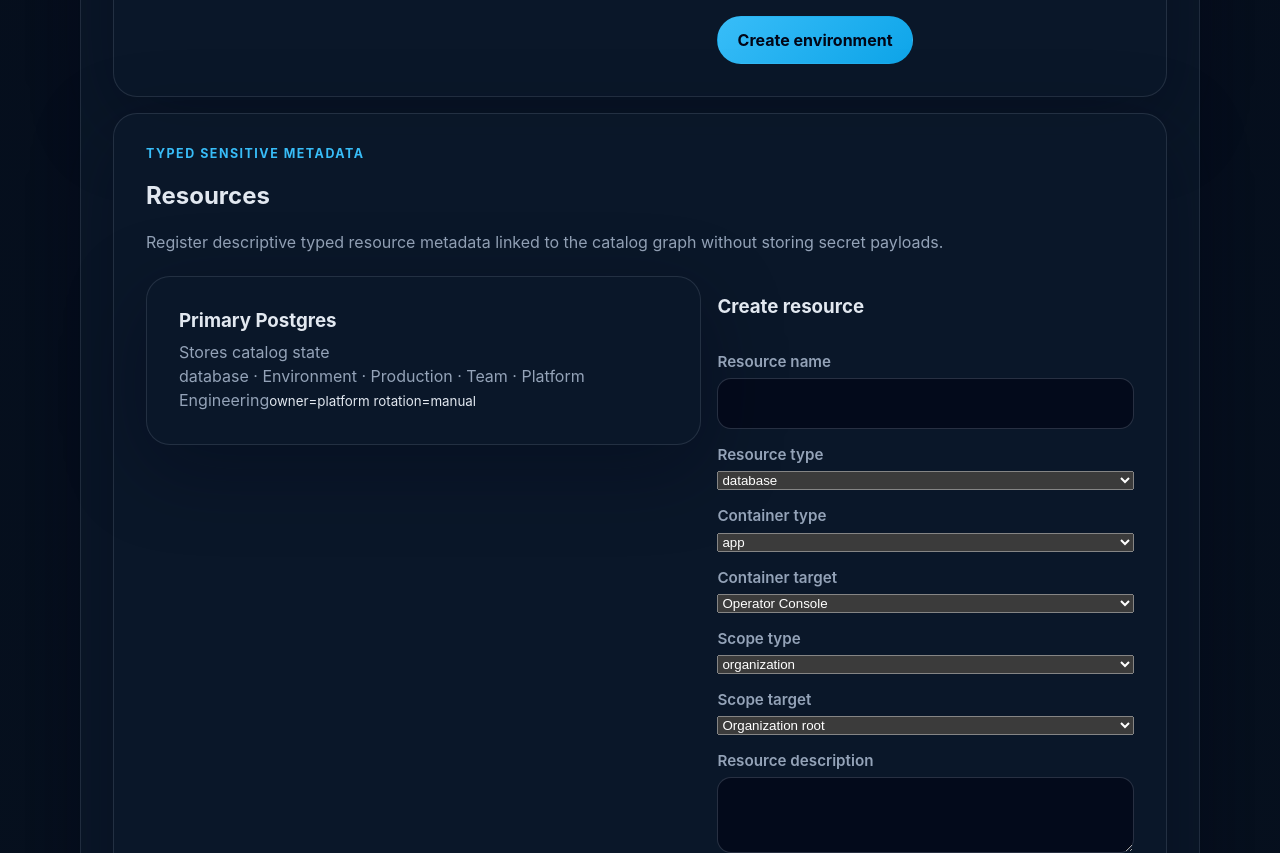
Scenario: catalog workspace › surfaces resource secret-payload failures in-place
The image size is (1280, 853).
(page scrolled)
expect the heading "Primary Postgres" is shown: met, box [179, 309, 337, 332]
Type "Unsafe Resource" into the field labelled "Resource name" at (926, 404), box [717, 378, 1134, 429]
(page scrolled)
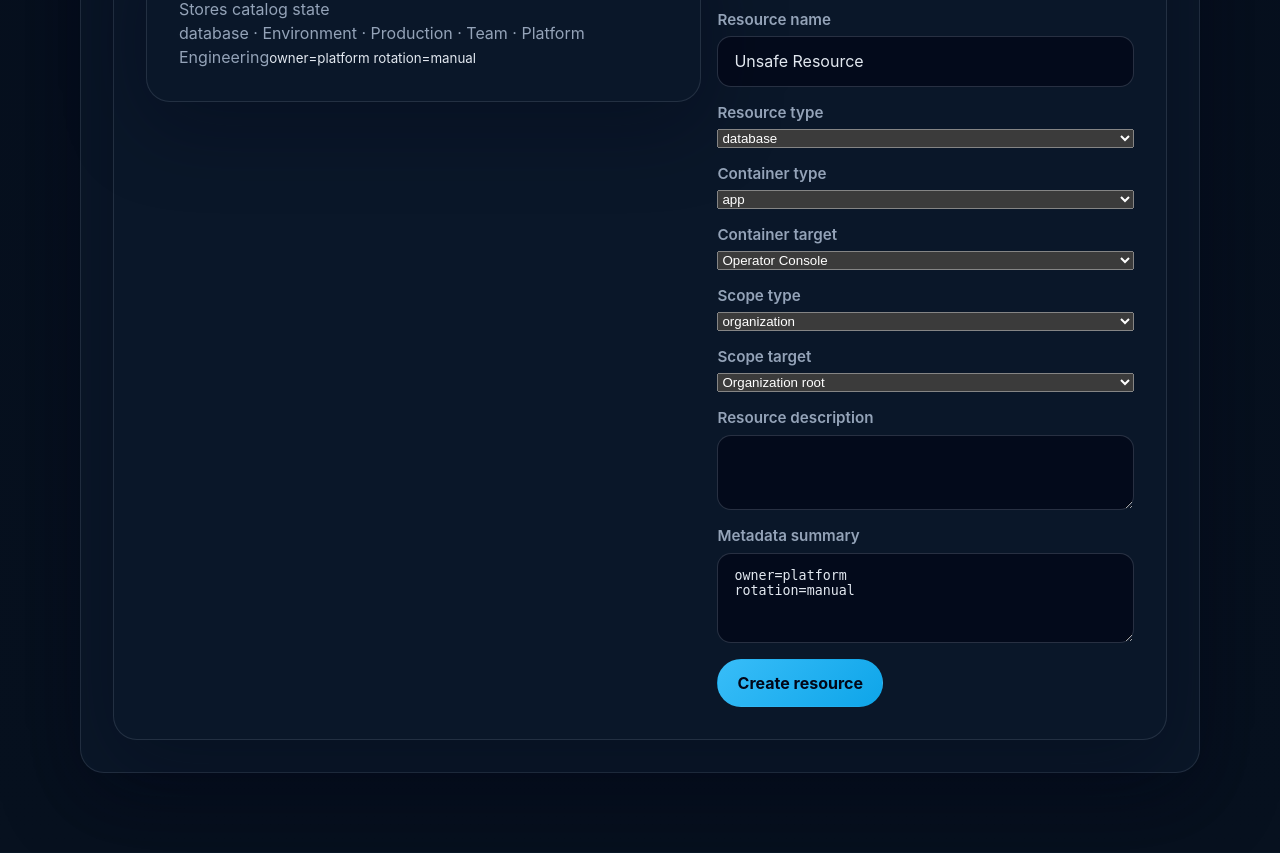
Replace the text in the text box labelled "Metadata summary" with "password=hunter2" at (926, 598), box [717, 553, 1134, 643]
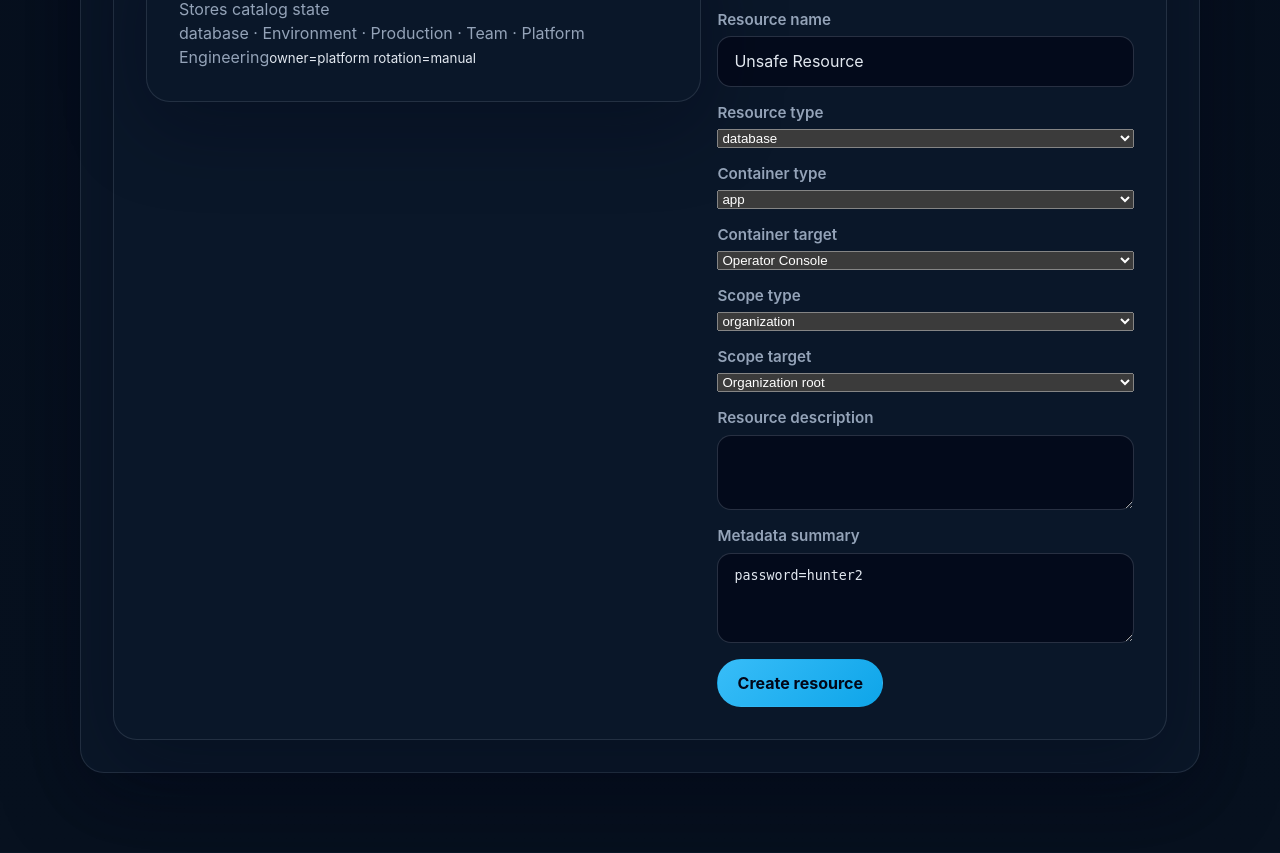
Click the button "Create resource" at (800, 683), box [717, 659, 883, 707]
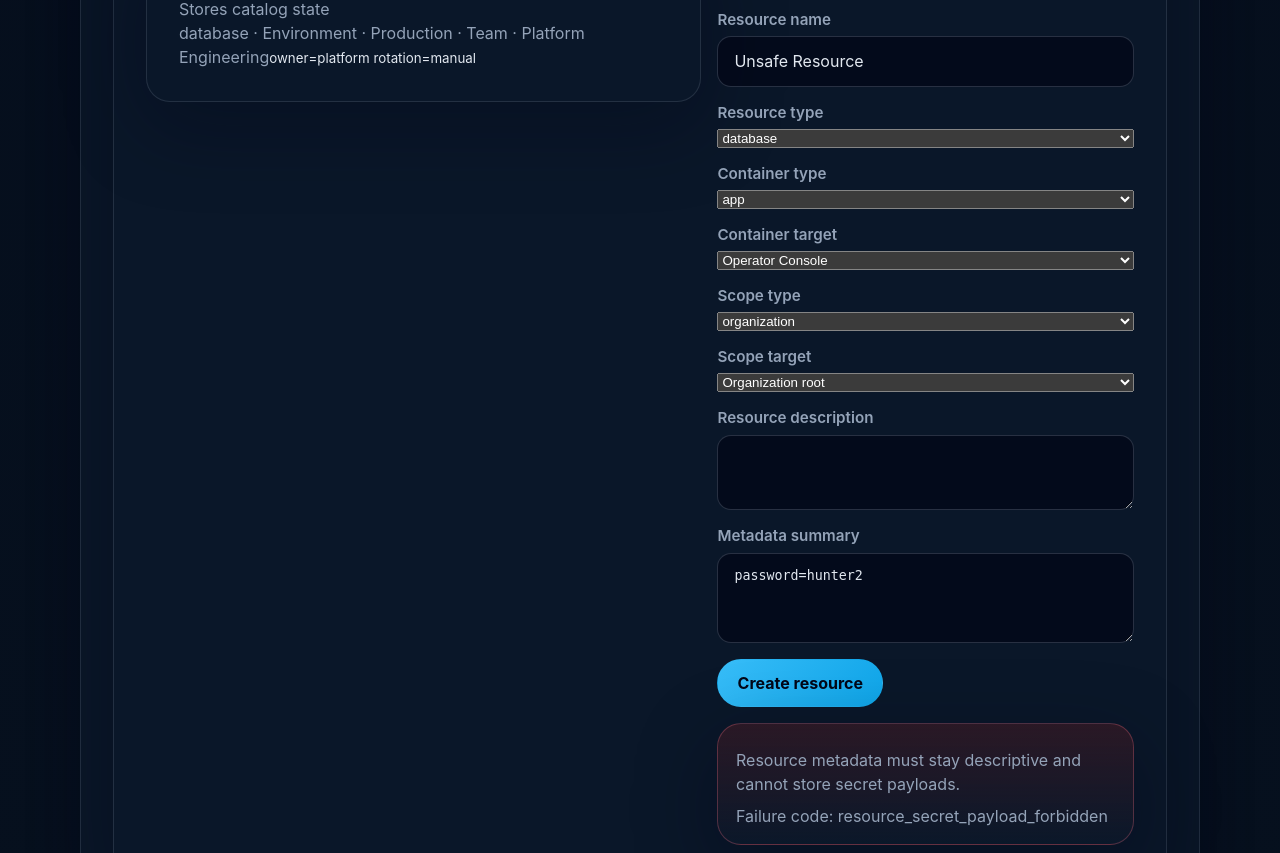
expect the text "Resource metadata must stay descriptive and cannot store secret payloads." is shown: met, box [736, 748, 1115, 796]
expect the text "Failure code: resource_secret_payload_forbidden" is shown: met, box [736, 804, 1115, 828]
